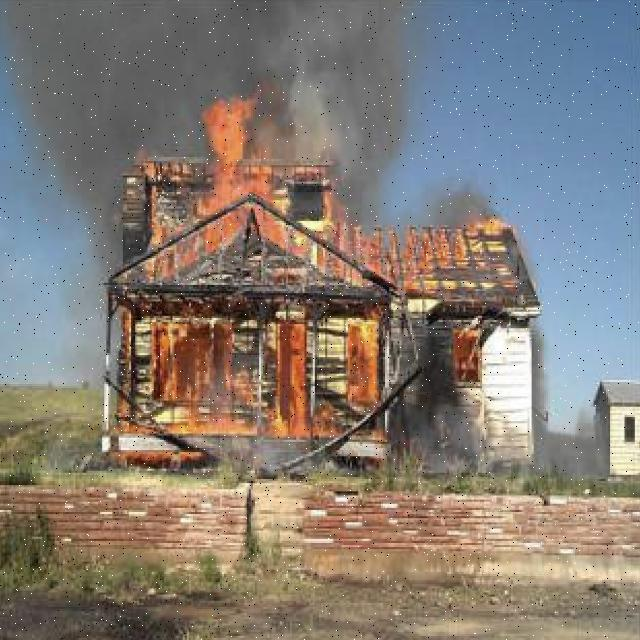fire: (102, 227, 505, 427), (133, 157, 336, 229), (206, 76, 266, 159), (110, 444, 206, 471)
smoke: (0, 0, 204, 159), (525, 322, 598, 483), (210, 429, 340, 492), (391, 423, 501, 483), (416, 173, 497, 236)
